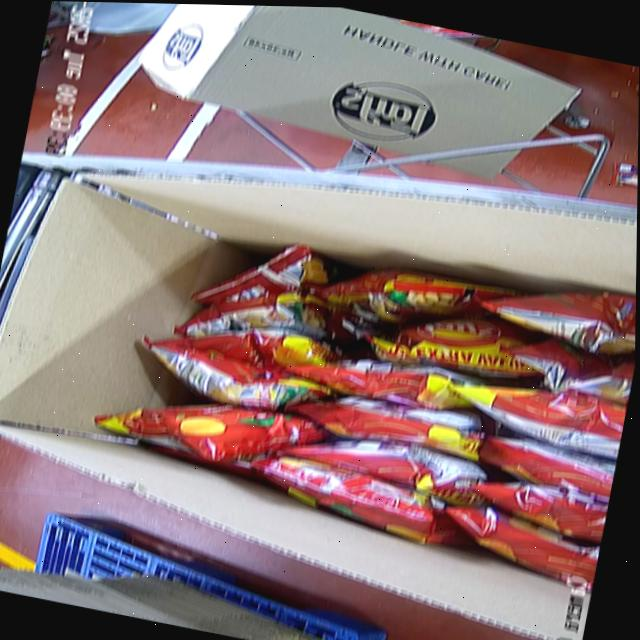MASALA: (78, 192, 637, 592)
